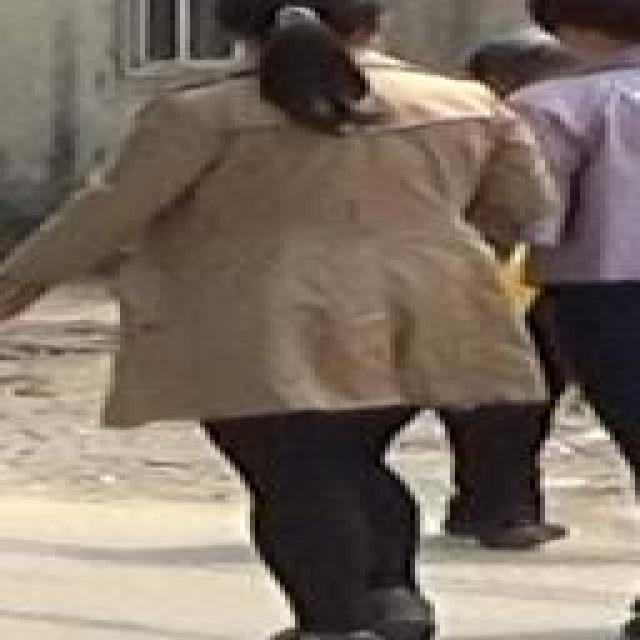adult: (8, 0, 540, 640), (485, 0, 640, 635)
